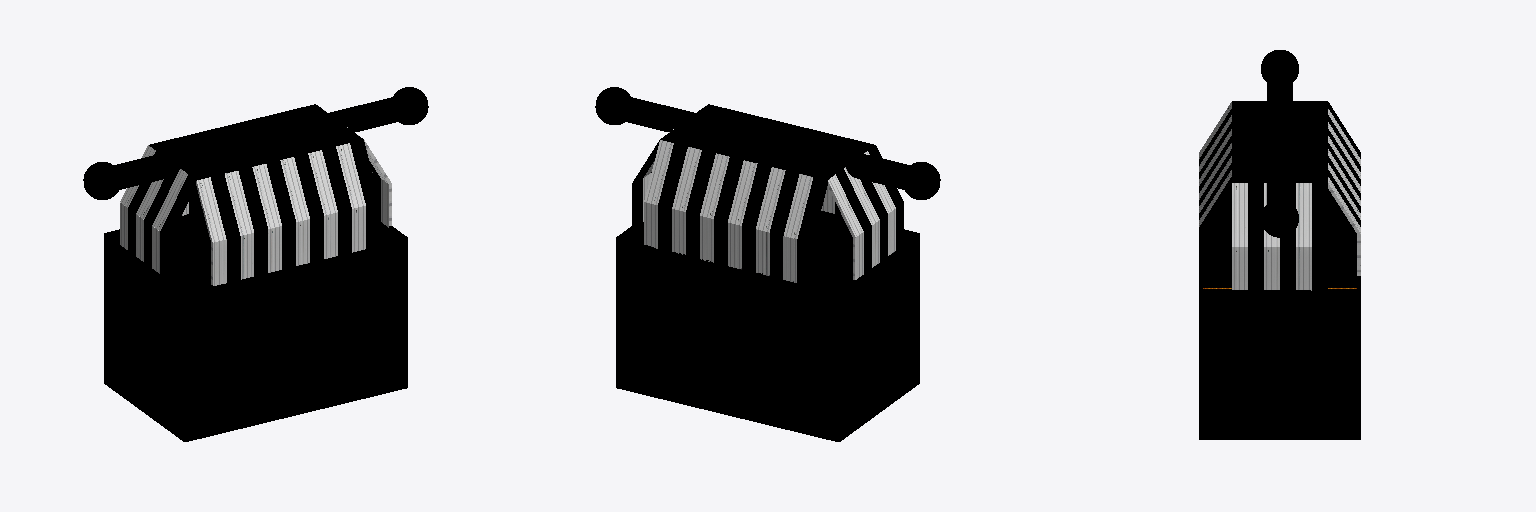
3 views of the same model, side by side, from view 1: azimuth 30°, elevation 25°; view 2: azimuth 150°, elevation 25°; view 3: azimuth 270°, elevation 25° (orthographic).
Visible parts, largest first — view 1: pCube93, pCube89, pCube95, pCylinder175, pCube9, pCube86, pCube94, pSphere5, pCube28, pCube23, pCube26, pCube32 (+23 smaller); view 2: pCube94, pCube90, pCube95, pCylinder175, pCube9, pCube86, pCube93, pSphere5, pCube16, pCube11, pCube14, pCube17 (+23 smaller); view 3: pCube98, pCube9, pCube87, pCube97, pCube95, pCylinder175, pCube88, pCube96, pSphere6, pCube43, pCube48, pCube44 (+9 smaller).
Part boxes in pixels (left/top/right/bottom): pCube93: left=185, top=237, right=407, bottom=382; pCube89: left=185, top=330, right=407, bottom=441; pCube95: left=104, top=233, right=186, bottom=383; pCylinder175: left=114, top=97, right=403, bottom=189; pCube9: left=149, top=104, right=363, bottom=179; pCube86: left=104, top=326, right=186, bottom=441; pCube94: left=107, top=211, right=210, bottom=289; pSphere5: left=83, top=162, right=120, bottom=199; pCube28: left=196, top=177, right=225, bottom=242; pCube23: left=336, top=143, right=365, bottom=208; pCube26: left=294, top=153, right=323, bottom=218; pCube32: left=252, top=164, right=281, bottom=228; pCube94: left=616, top=237, right=838, bottom=382; pCube90: left=616, top=330, right=836, bottom=441; pCube95: left=837, top=233, right=919, bottom=383; pCylinder175: left=620, top=97, right=909, bottom=189; pCube9: left=660, top=104, right=874, bottom=180; pCube86: left=837, top=326, right=919, bottom=441; pCube93: left=813, top=211, right=916, bottom=289; pSphere5: left=903, top=162, right=940, bottom=199; pCube16: left=798, top=177, right=827, bottom=242; pCube11: left=658, top=143, right=687, bottom=208; pCube14: left=700, top=153, right=729, bottom=218; pCube17: left=784, top=174, right=812, bottom=238; pCube98: left=1249, top=290, right=1310, bottom=439; pCube9: left=1232, top=101, right=1327, bottom=182; pCube87: left=1199, top=289, right=1247, bottom=381; pCube97: left=1312, top=289, right=1360, bottom=381; pCube95: left=1203, top=189, right=1356, bottom=273; pCylinder175: left=1267, top=63, right=1292, bottom=203; pCube88: left=1312, top=382, right=1360, bottom=439; pCube96: left=1199, top=382, right=1247, bottom=439; pSphere6: left=1261, top=199, right=1298, bottom=237; pCube43: left=1232, top=183, right=1247, bottom=246; pCube48: left=1312, top=183, right=1327, bottom=246; pCube44: left=1248, top=183, right=1263, bottom=246.
Size of the model in its own units: 12.2 by 8.9 by 5.01.
Materials: 5 (2 with a texture image).